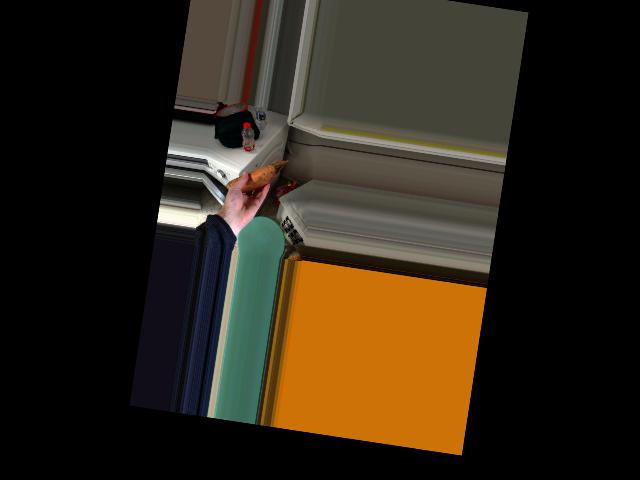sweet_potato: (236, 160, 272, 195)
